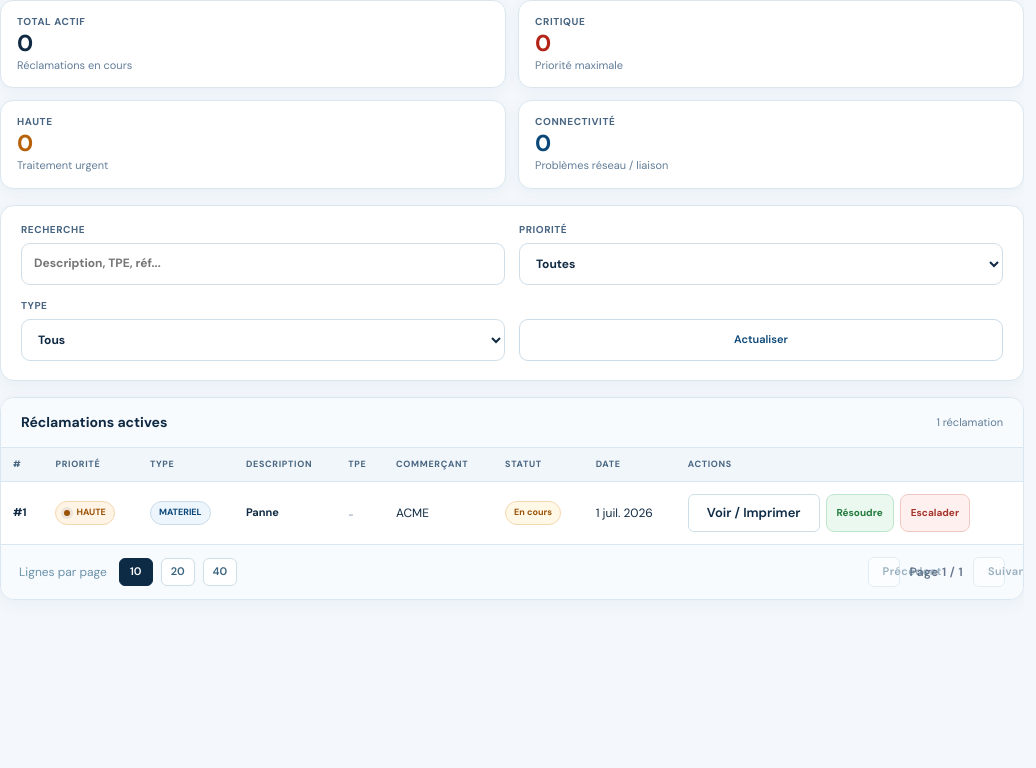
Test: BackofficeReclamationsPage › marque une reclamation comme escaladee
Click the button "Escalader" at {"x": 935, "y": 513}, box top-left (900, 494), bottom-right (970, 532)
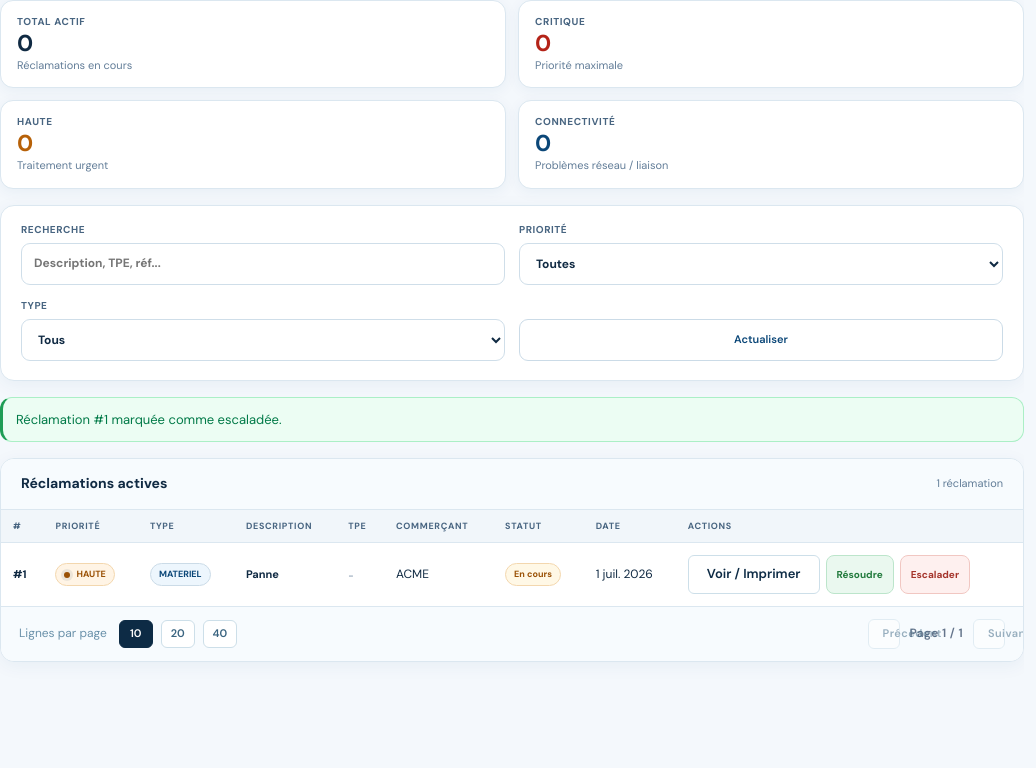
Now the text "Réclamation #1 marquée comme escaladée." is shown, box top-left (0, 397), bottom-right (1024, 442)
